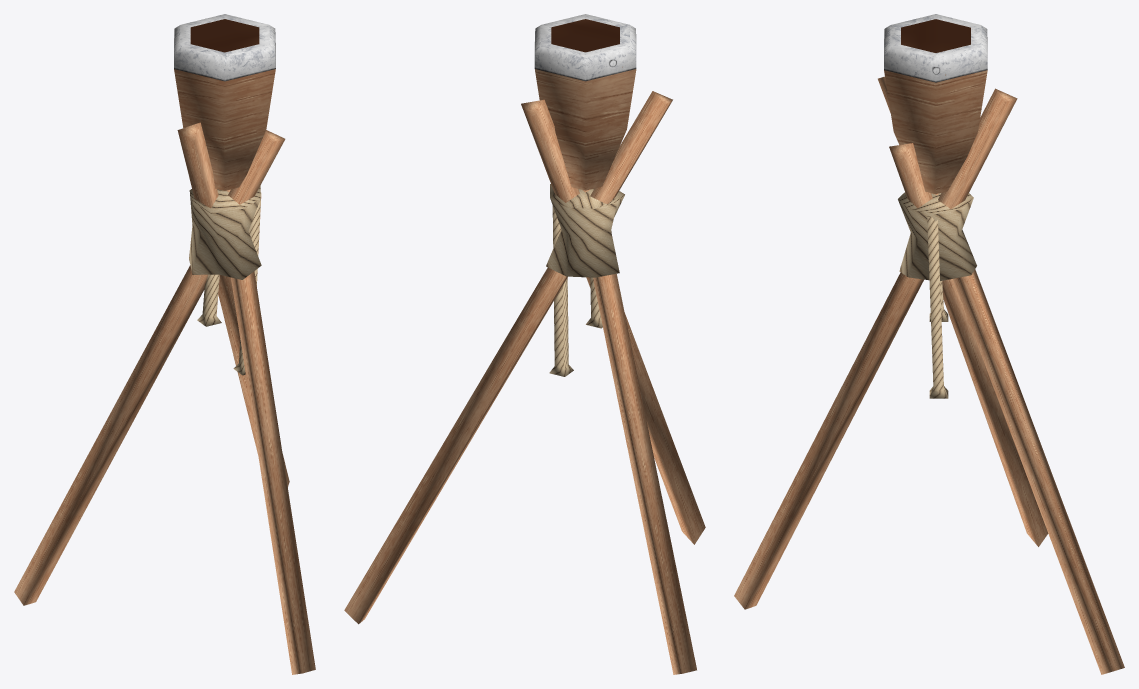
The model's file is torch.glb.
3 renders of one model, left to right at view 1: azimuth 30°, elevation 25°; view 2: azimuth 150°, elevation 25°; view 3: azimuth 270°, elevation 25°, orthographic. The views are drawn at different scales.
Parts seen in each view (by area): view 1: torch01.001, Cube.124; view 2: torch01.001, Cube.124; view 3: torch01.001, Cube.124.
Part boxes in pixels (x1,y1,x2,y2): torch01.001: (14,14,315,674); Cube.124: (189,185,261,375); torch01.001: (344,14,705,674); Cube.124: (546,184,624,376); torch01.001: (734,14,1124,674); Cube.124: (898,192,976,398).
Bounding box in the file's own units: 1.43 × 2.51 × 1.53.
Materials: 2 (2 with a texture image).
